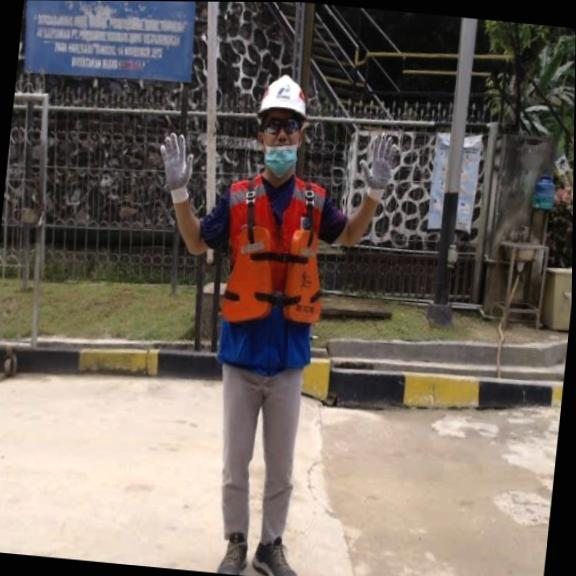safety_vest: (219, 221, 332, 331)
